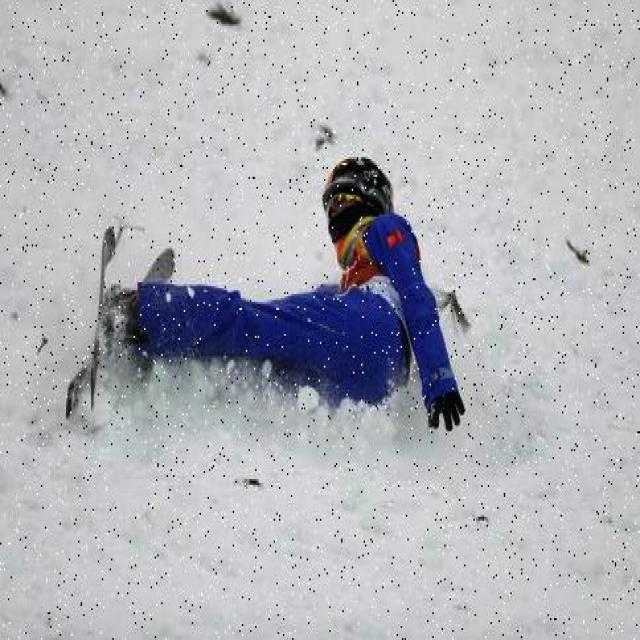fall: (108, 167, 471, 403)
